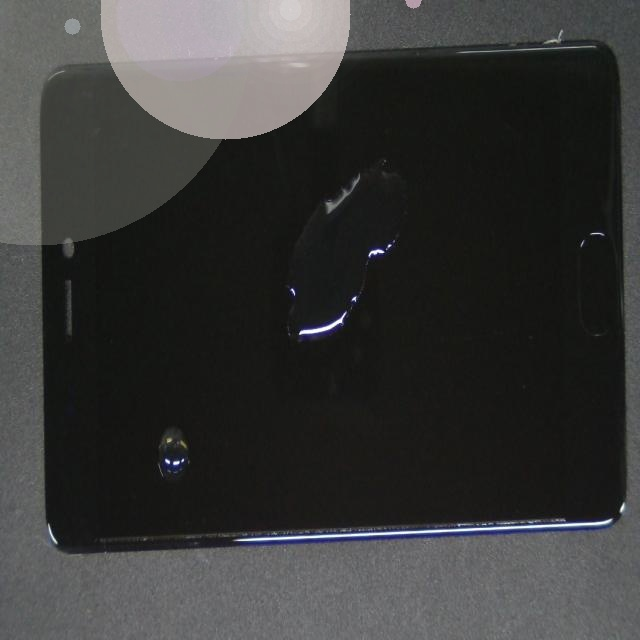oil: (166, 201, 563, 446), (92, 203, 241, 640)
